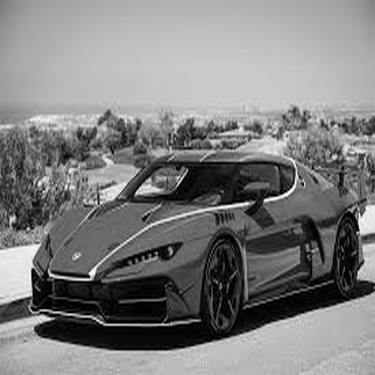car: (34, 134, 365, 327)
